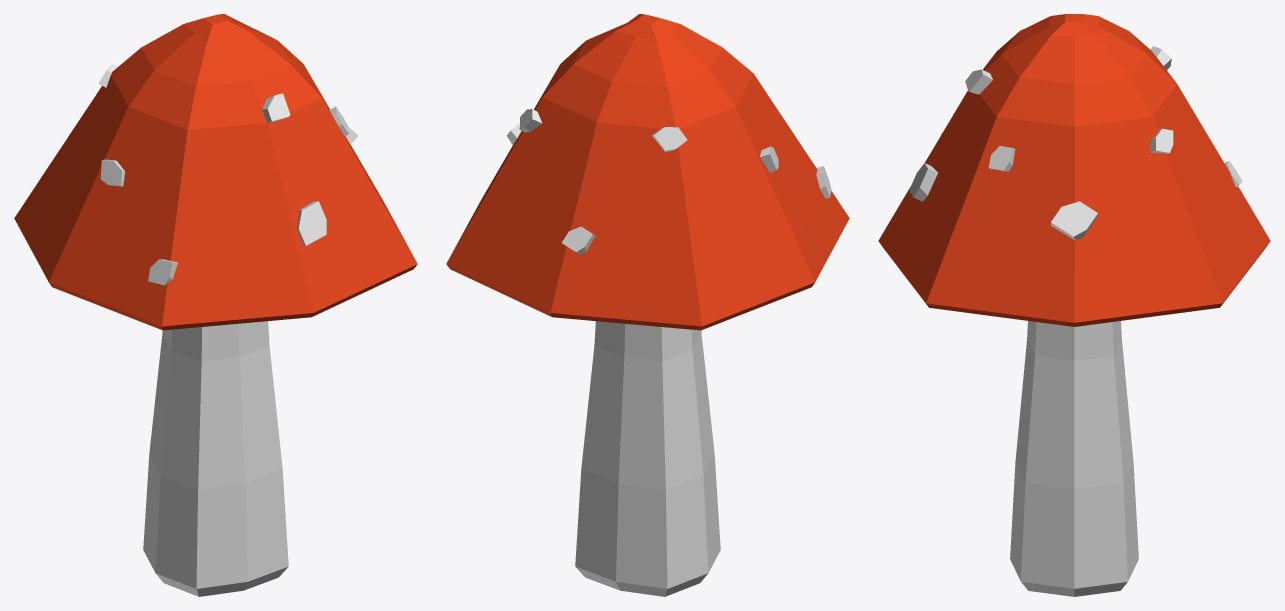
Rendered from RedMushroom.fbx.
The picture shows the model from 3 angles, left to right: view 1: azimuth 30°, elevation 25°; view 2: azimuth 150°, elevation 25°; view 3: azimuth 270°, elevation 25°; orthographic projection.
Visible parts, largest first — view 1: RedMushroom, mcube.005, mcube.008, mcube, mcube.009; view 2: RedMushroom, mcube.004, mcube.003; view 3: RedMushroom, mcube.001, mcube.005, mcube.006.
Part boxes in pixels (x1,y1,x2,y2): RedMushroom: [14, 14, 417, 596]; mcube.005: [297, 201, 326, 246]; mcube.008: [262, 93, 290, 123]; mcube: [148, 259, 177, 285]; mcube.009: [100, 159, 125, 186]; RedMushroom: [446, 14, 849, 596]; mcube.004: [652, 127, 687, 152]; mcube.003: [562, 226, 595, 254]; RedMushroom: [878, 14, 1270, 596]; mcube.001: [1051, 201, 1097, 240]; mcube.005: [909, 163, 937, 201]; mcube.006: [988, 146, 1015, 171].
Size of the model in its own units: 125 by 199 by 126.
